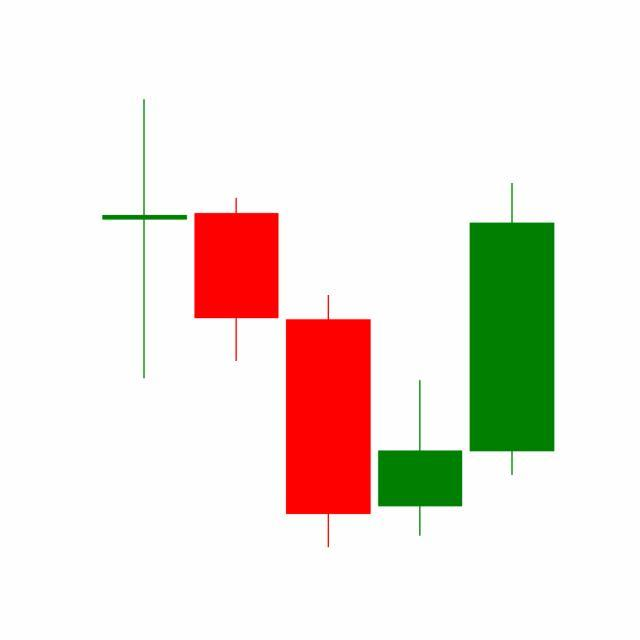Three Inside Up-Down: (280, 179, 555, 549)
